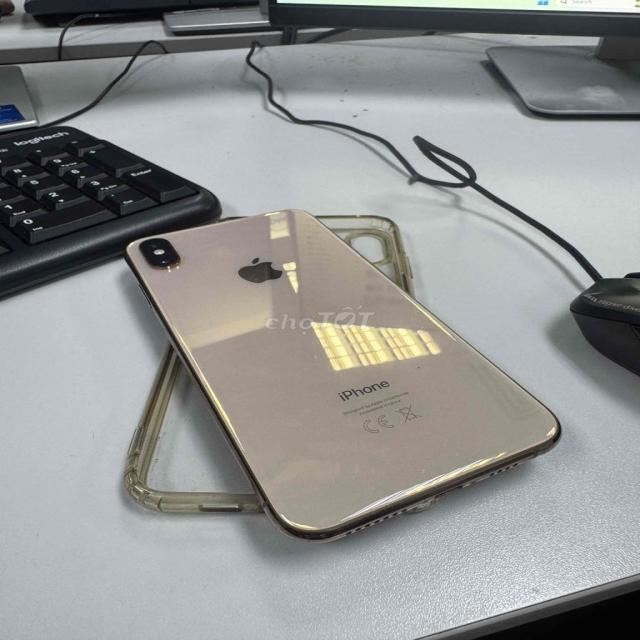gen_x_xs: (127, 210, 559, 540)
